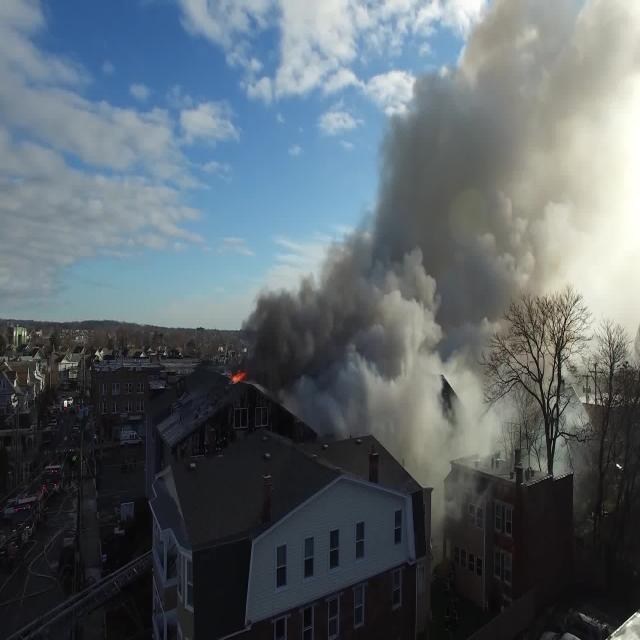smoke: (461, 0, 639, 309), (273, 278, 454, 488)
